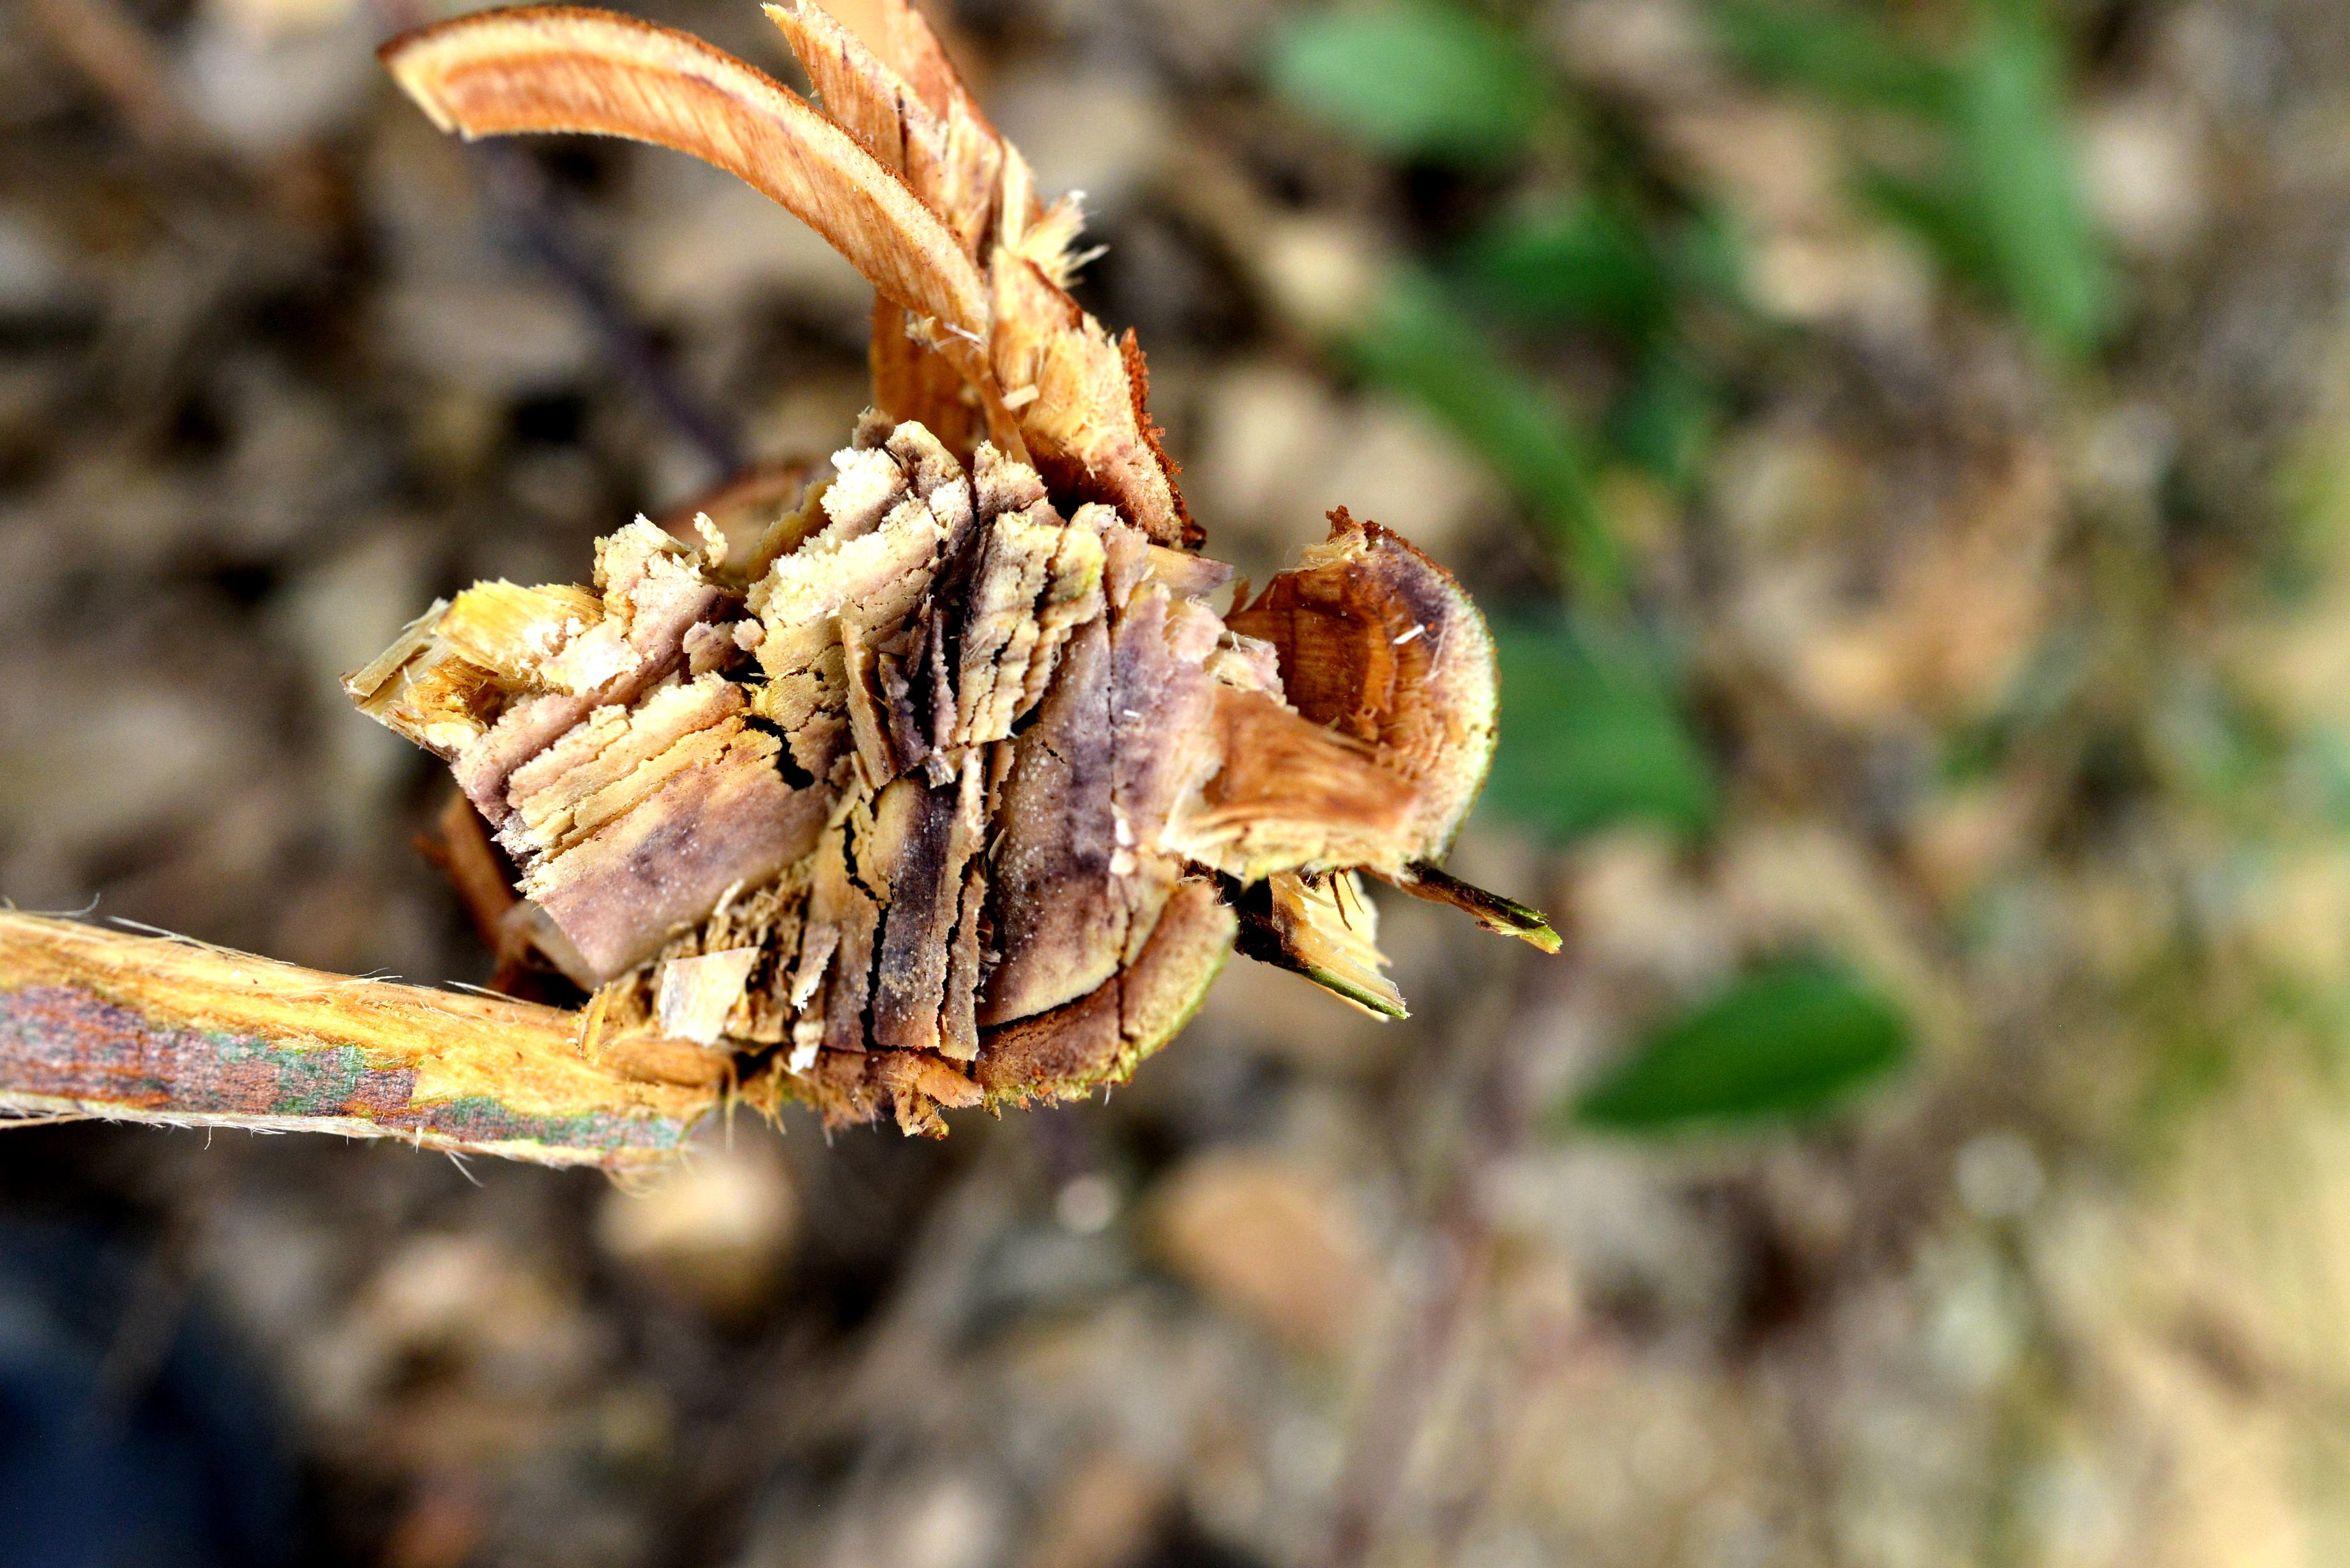Ralstonia: (819, 490, 1018, 1059), (1027, 542, 1204, 994), (546, 765, 761, 934), (1342, 492, 1468, 670), (458, 607, 595, 681)
